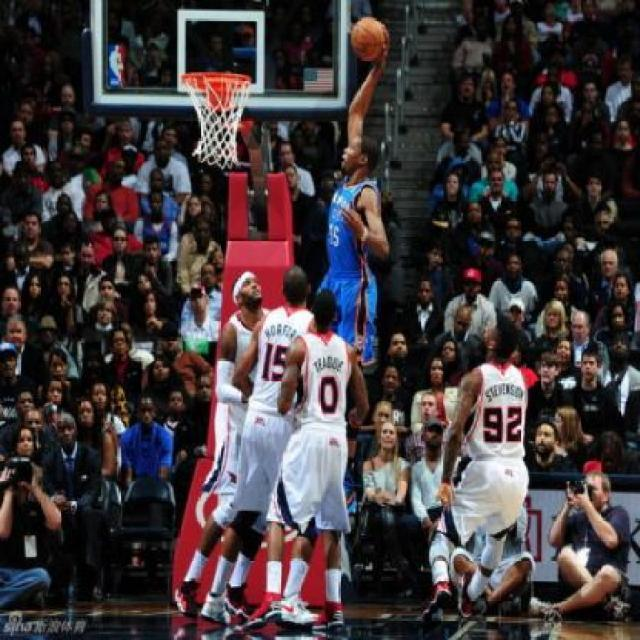basketball: (352, 18, 383, 62)
rim: (182, 72, 254, 172)
